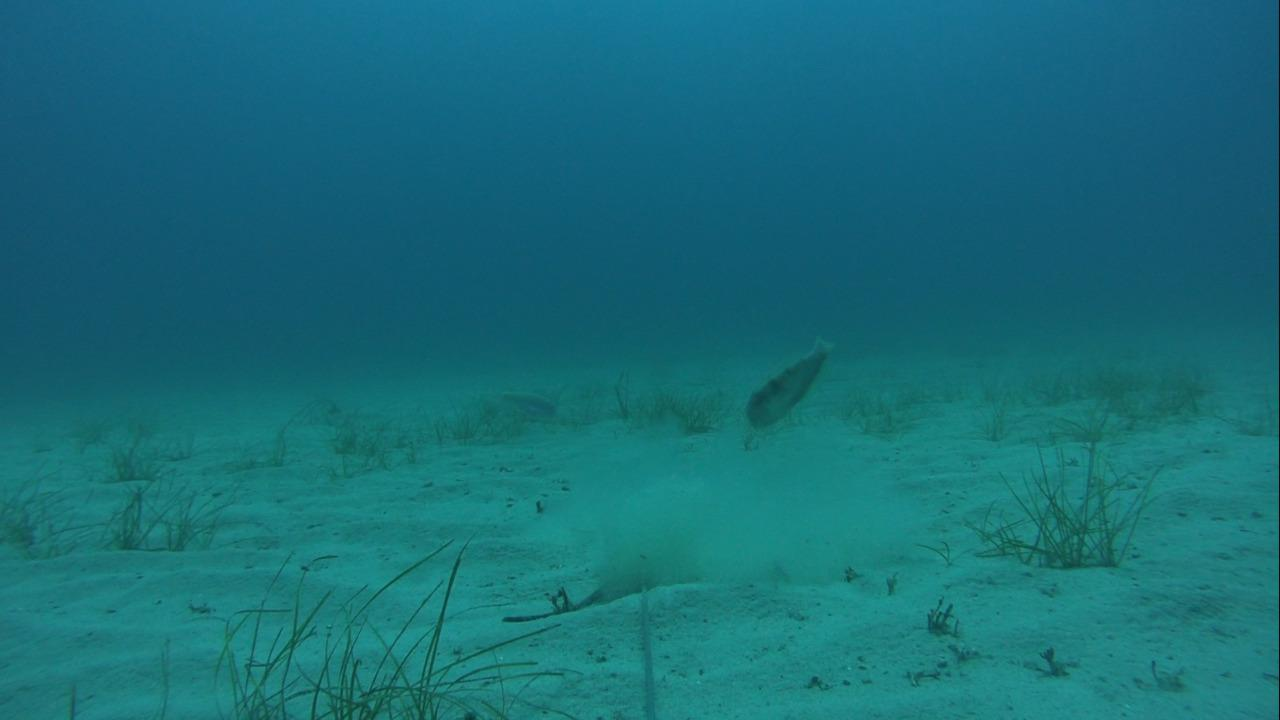raor: (741, 333, 833, 436), (490, 388, 560, 424)
